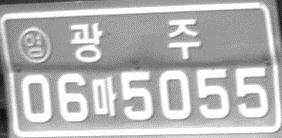0: (157, 69, 191, 120), (20, 72, 53, 124)
5: (195, 68, 230, 119), (234, 66, 268, 118), (120, 70, 154, 121)
6: (56, 72, 89, 123)
광주_D: (69, 18, 201, 63)
마: (91, 76, 117, 117)
영: (17, 26, 51, 64)
